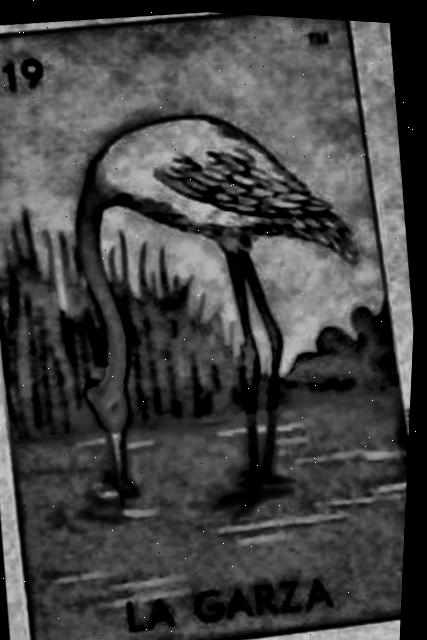El Garza: (0, 11, 412, 640)
